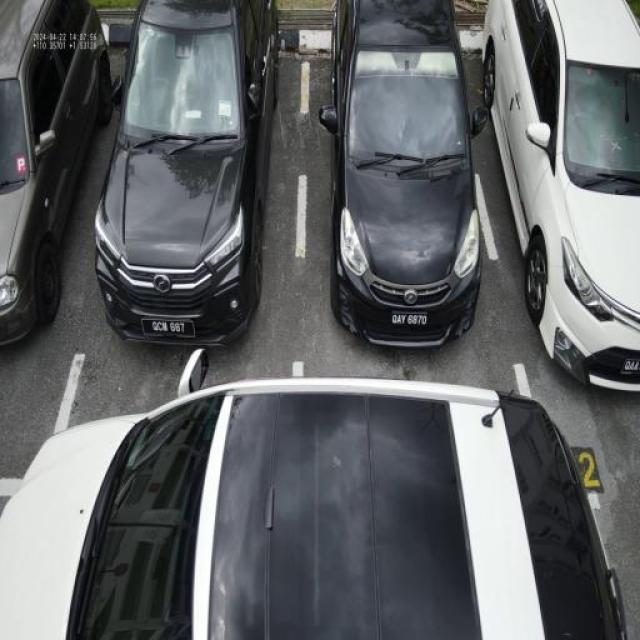Legalparking: (96, 0, 276, 344), (484, 0, 639, 390), (319, 0, 488, 346), (0, 0, 114, 344)
illegalparking: (0, 350, 626, 639)
